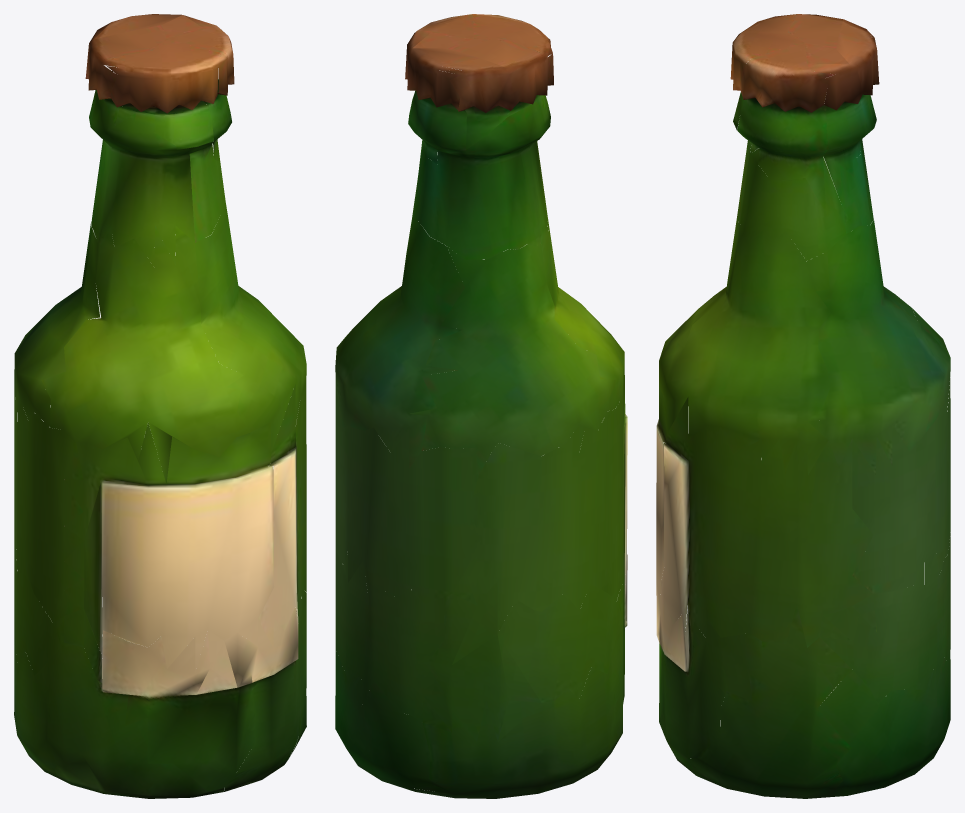
The model's file is beer.glb.
3 views of the same model, side by side, from view 1: azimuth 30°, elevation 25°; view 2: azimuth 150°, elevation 25°; view 3: azimuth 270°, elevation 25° (orthographic).
Visible parts, largest first — view 1: item; view 2: item; view 3: item.
Boxes of the visible parts, <box> form: item: <box>14,14,306,798</box>; item: <box>335,14,627,798</box>; item: <box>656,14,950,798</box>.
Bounding box in the file's own units: 0.0907 × 0.24 × 0.0913.
Materials: 1 (1 with a texture image).
